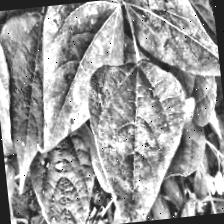Bean Rust: (74, 64, 199, 224), (28, 0, 143, 154), (118, 0, 223, 111), (0, 17, 59, 183), (21, 124, 114, 224)
